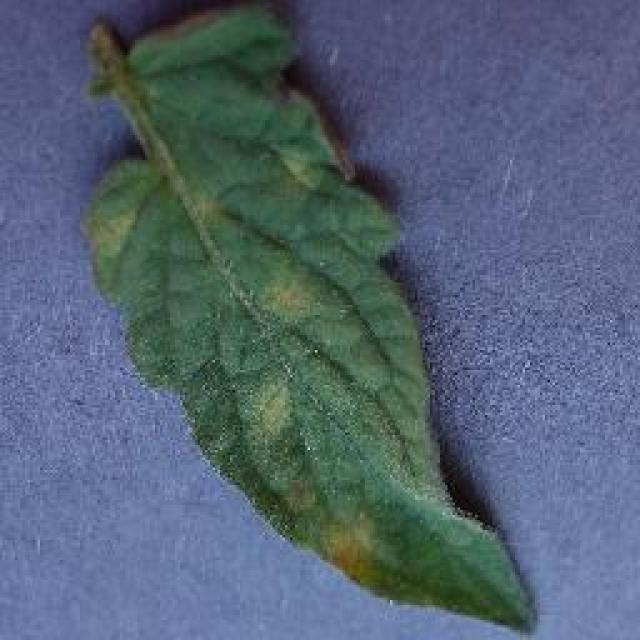leaf mold: (79, 4, 537, 635)
